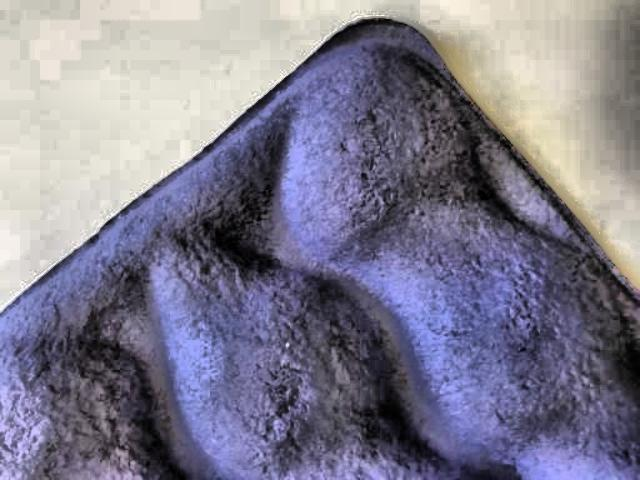Paper: (0, 13, 640, 480)
